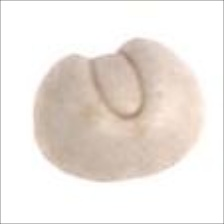L5: (87, 46, 149, 123), (115, 163, 179, 181)
L6: (31, 36, 206, 185)
